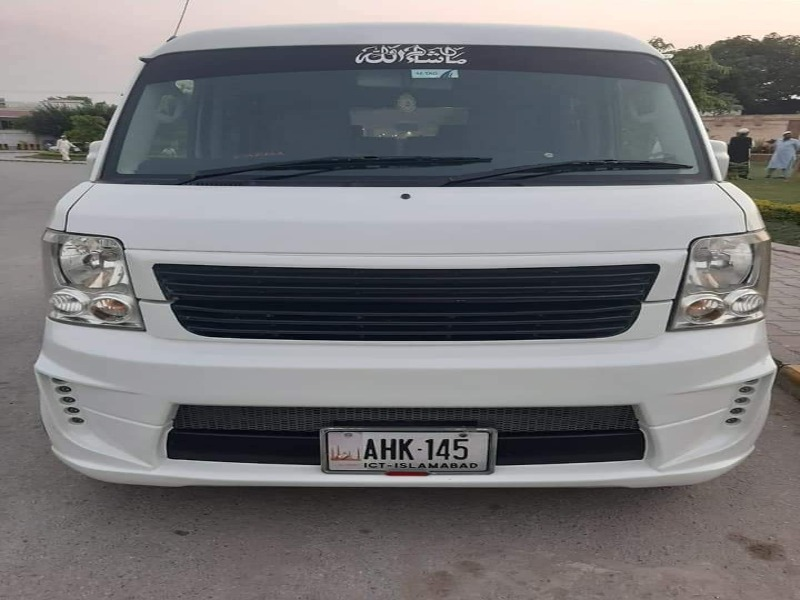License Plate: (316, 423, 503, 480)
